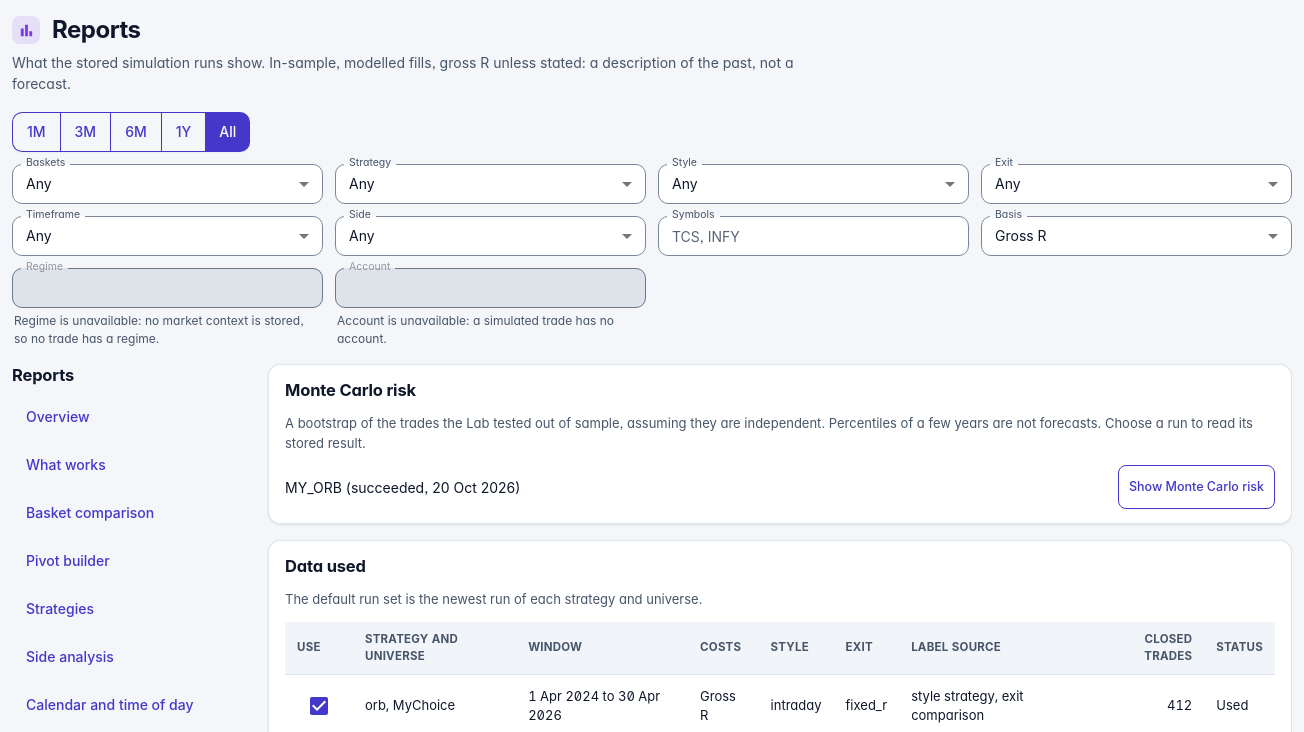
Test: Monte Carlo risk › says a run without a robustness block has none
Click the button "Show Monte Carlo risk". click: (1196, 487)
box: [1118,465,1275,509]
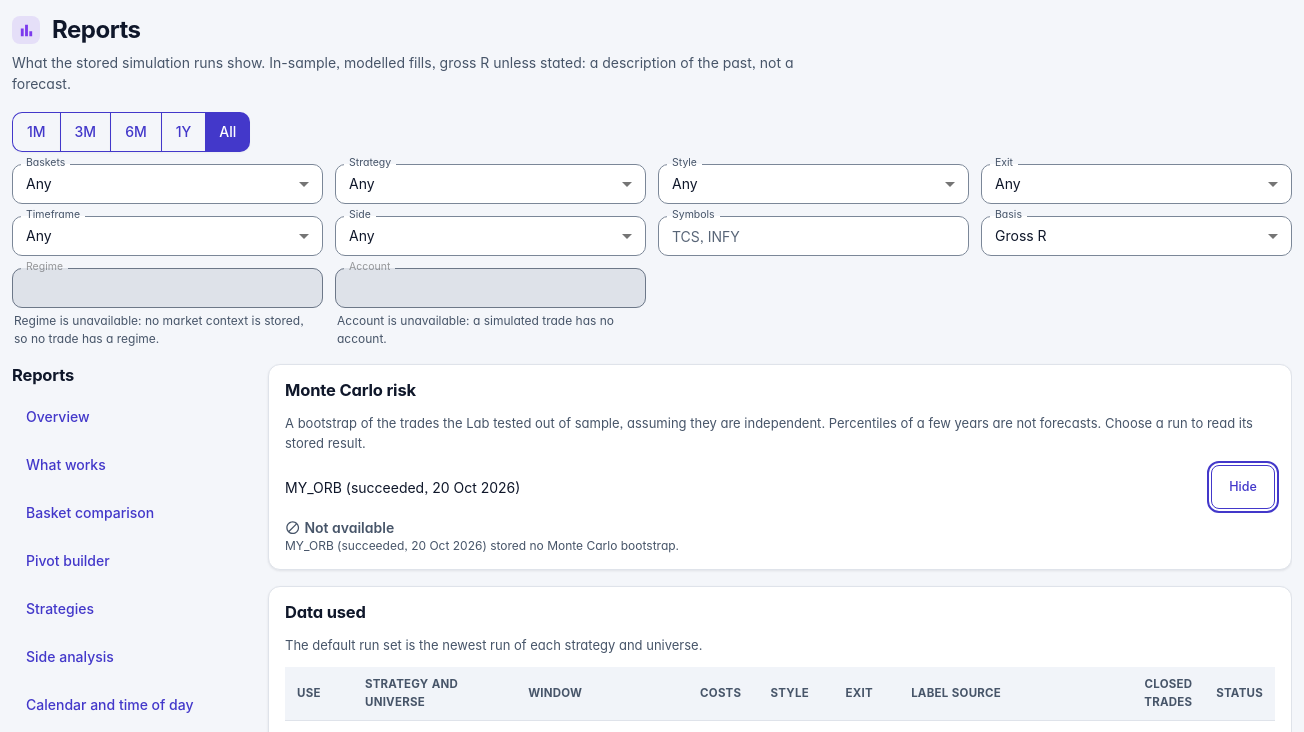
Now the text "stored no Monte Carlo bootstrap" is shown, box [285,538,679,553]
